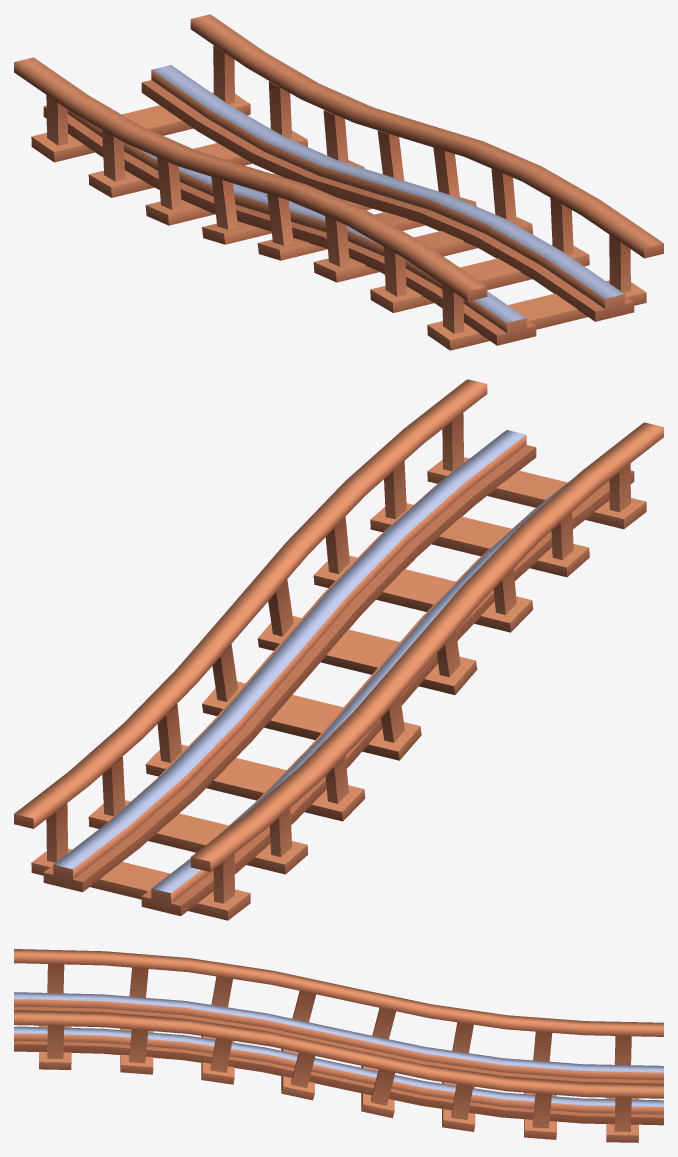
The model's file is coaster-wood-straight-hill-complete-half.glb.
3 renders of one model, top to bottom at view 1: azimuth 30°, elevation 25°; view 2: azimuth 150°, elevation 25°; view 3: azimuth 270°, elevation 25°, orthographic. The views are drawn at different scales.
Parts seen in each view (by area): view 1: coaster-wood-straight-hill-complete-half; view 2: coaster-wood-straight-hill-complete-half; view 3: coaster-wood-straight-hill-complete-half.
Part boxes in pixels (<box>): coaster-wood-straight-hill-complete-half: <box>14,14,663,350</box>; coaster-wood-straight-hill-complete-half: <box>14,379,663,920</box>; coaster-wood-straight-hill-complete-half: <box>14,949,663,1142</box>.
Bounding box in the file's own units: 1 × 0.8491 × 4.
1 material, 1 textured.
